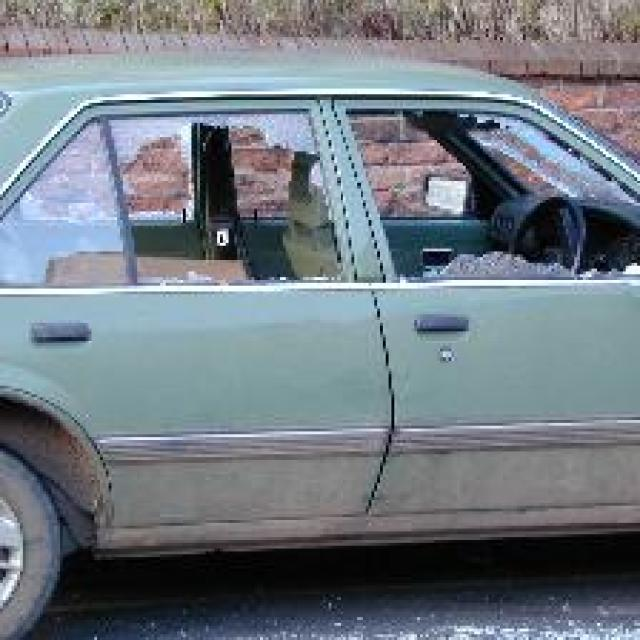glass_shatter_severe: (111, 103, 637, 280)
